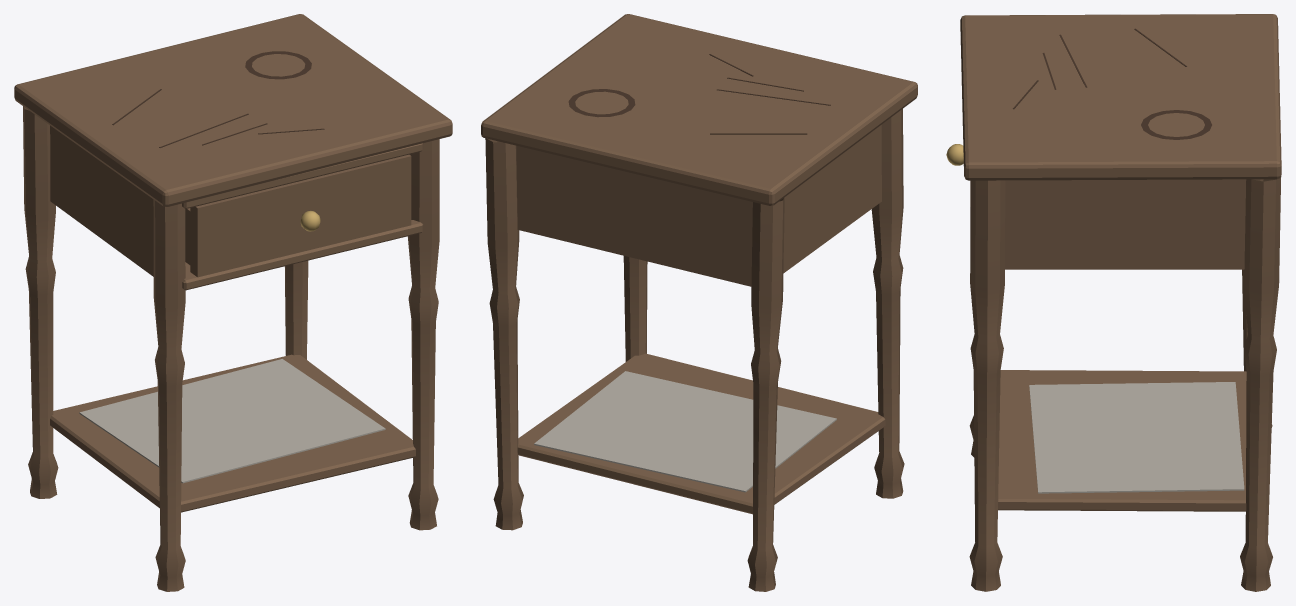
The model's file is nightstand.glb.
3 renders of one model, left to right at view 1: azimuth 30°, elevation 25°; view 2: azimuth 150°, elevation 25°; view 3: azimuth 270°, elevation 25°, orthographic. The views are drawn at different scales.
Parts seen in each view (by area): view 1: nightstand_static, MOV_nightstand_drawer; view 2: nightstand_static; view 3: nightstand_static.
Boxes of the visible parts, x1=… form: nightstand_static: x1=14, y1=14, x2=452, y2=591; MOV_nightstand_drawer: x1=185, y1=154, x2=411, y2=277; nightstand_static: x1=481, y1=14, x2=917, y2=591; nightstand_static: x1=960, y1=14, x2=1281, y2=591.
Size of the model in its own units: 0.454 by 0.601 by 0.4223.
